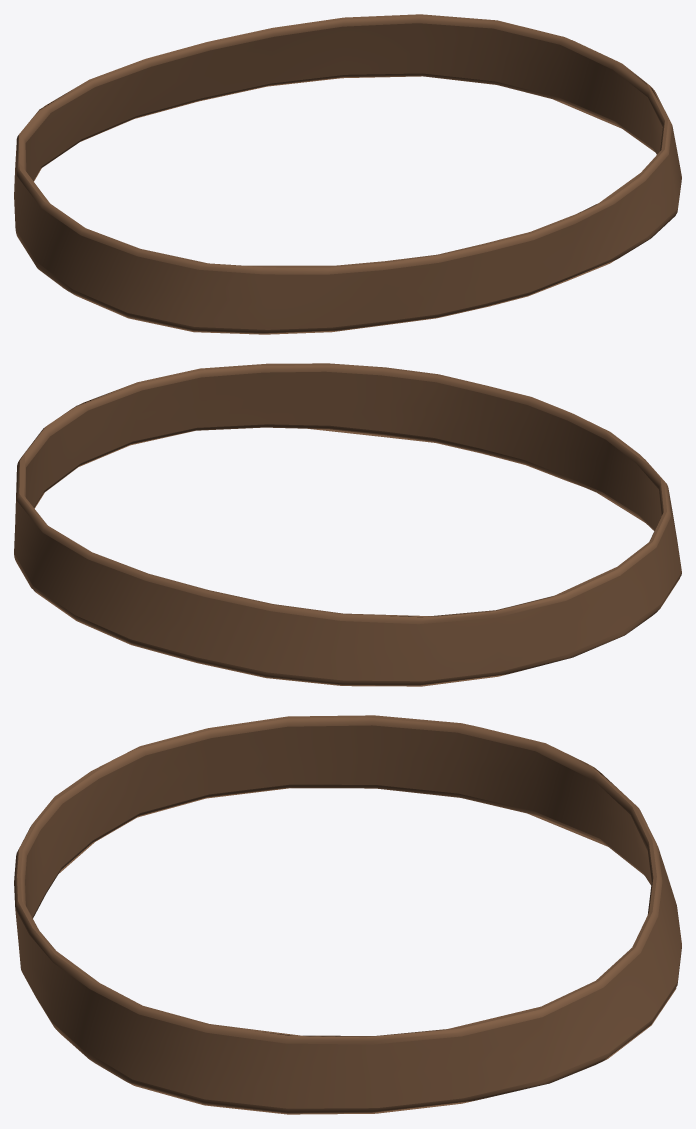
File: armor.innkeeper.default.gltf
3 views of the same model, one above another, from view 1: azimuth 30°, elevation 25°; view 2: azimuth 150°, elevation 25°; view 3: azimuth 270°, elevation 25° (orthographic). The views are drawn at different scales.
Parts seen in each view (by area): view 1: innkeeper.belt; view 2: innkeeper.belt; view 3: innkeeper.belt.
Part boxes in pixels (<box>): innkeeper.belt: <box>14,14,681,334</box>; innkeeper.belt: <box>14,363,681,686</box>; innkeeper.belt: <box>14,715,681,1114</box>.
Bounding box in the file's own units: 0.4257 × 0.0466 × 0.3643.
